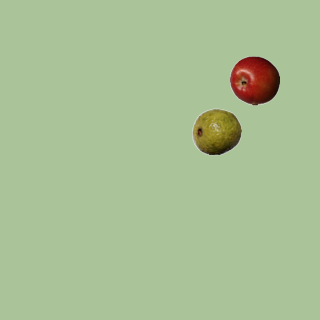Apple Braeburn: (229, 55, 279, 105)
Guava: (191, 106, 241, 156)
